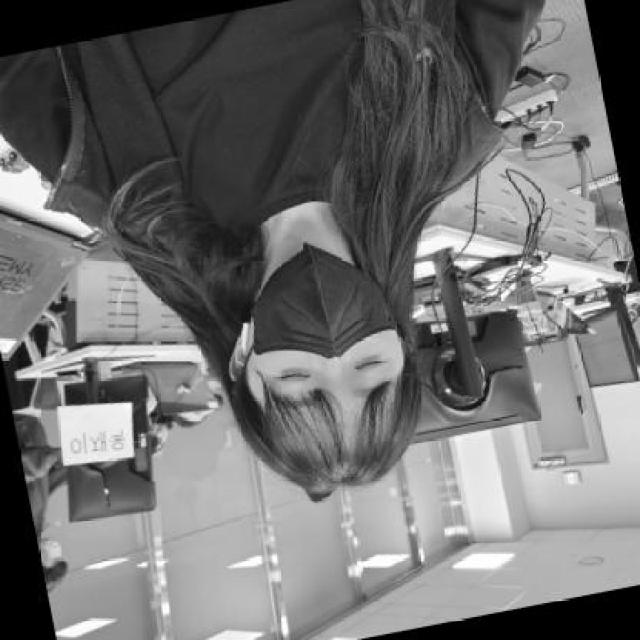earphone: (233, 311, 258, 372)
laptop_computer: (27, 355, 204, 556), (401, 255, 550, 488)
